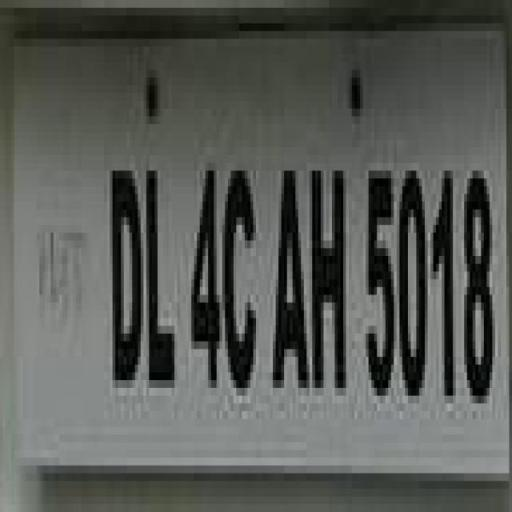number plate: (8, 62, 512, 472)
